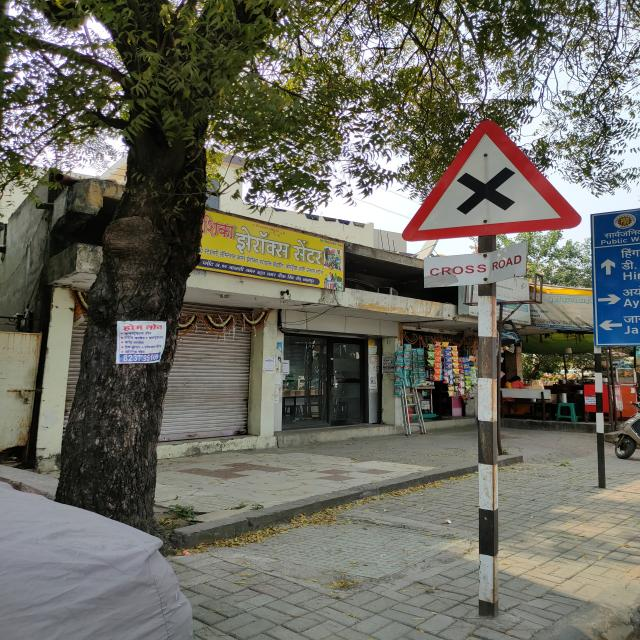CROSS_ROAD: (399, 116, 583, 244)
